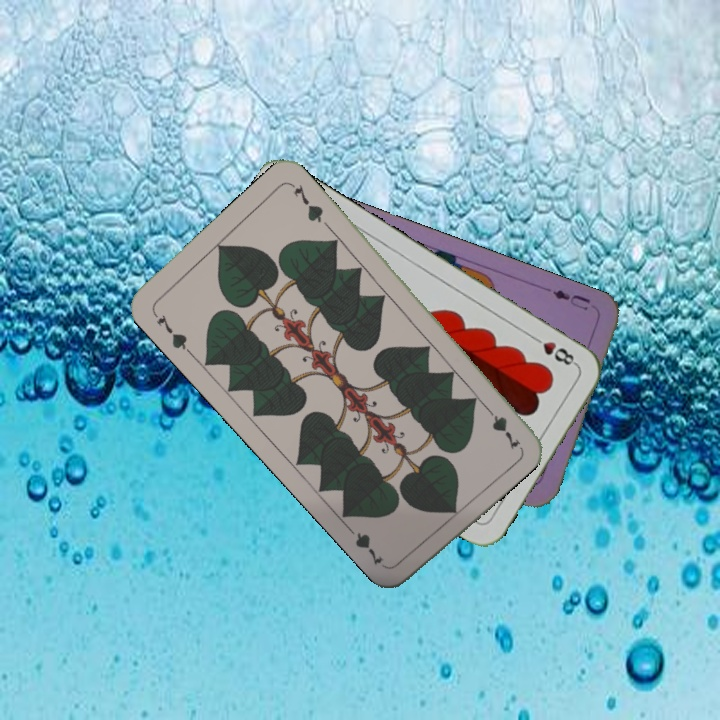EU: (548, 285, 593, 313)
G7: (478, 399, 523, 449), (148, 307, 193, 356)
H8: (527, 331, 580, 369)
